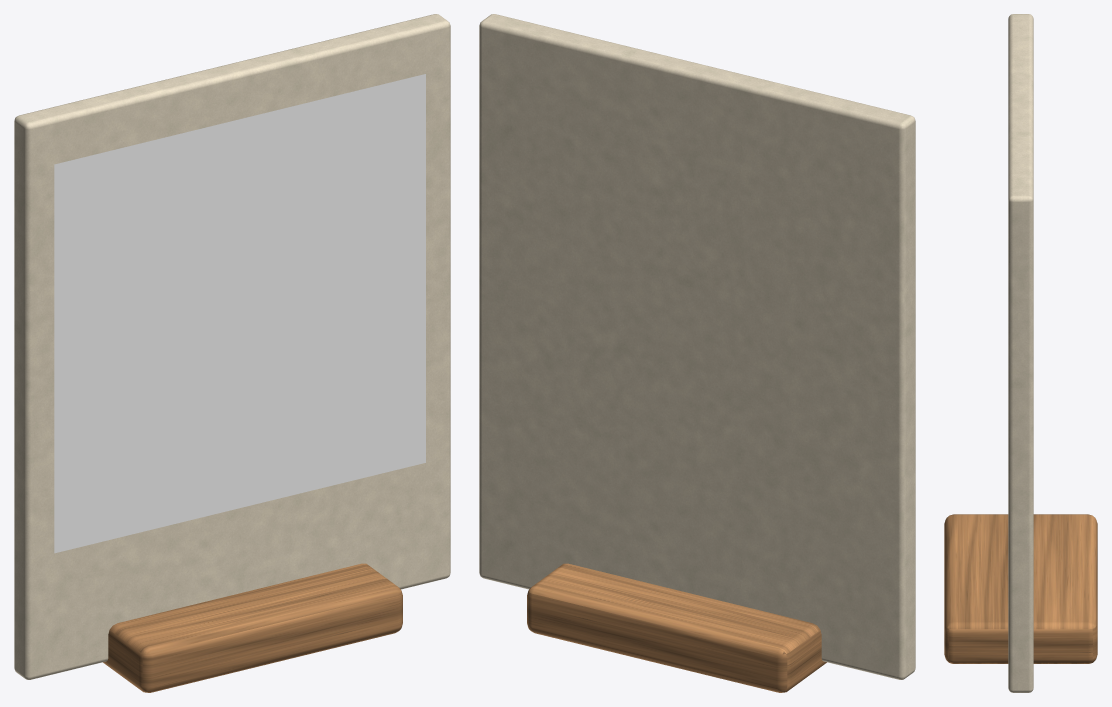
Rendered from preview.glb.
The picture shows the model from 3 angles, left to right: view 1: azimuth 30°, elevation 25°; view 2: azimuth 150°, elevation 25°; view 3: azimuth 270°, elevation 25°; orthographic projection. The views are drawn at different scales.
Parts seen in each view (by area): view 1: Instant; view 2: Instant; view 3: Instant.
Boxes of the visible parts, <box> form: Instant: <box>14,14,450,692</box>; Instant: <box>479,14,915,692</box>; Instant: <box>944,14,1097,692</box>.
Size of the model in its own units: 0.172 by 0.2185 by 0.06.
3 materials, 2 textured.
